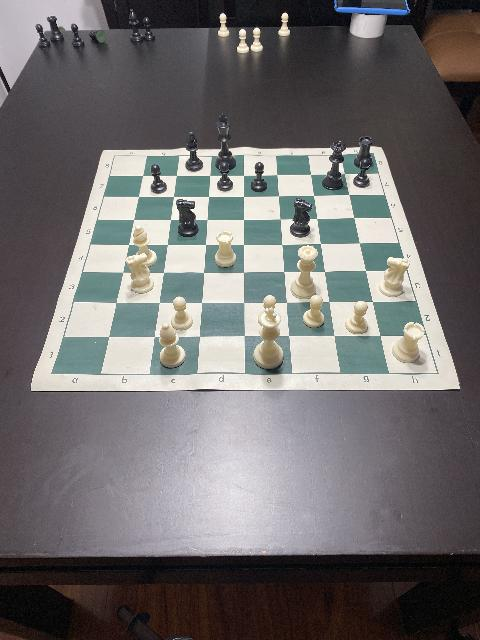black-bishop: (185, 131, 203, 171)
black-king: (214, 113, 236, 171)
black-knight: (175, 198, 199, 238), (291, 198, 313, 238)
black-pawn: (150, 164, 168, 193), (217, 162, 233, 192), (252, 162, 268, 192), (354, 160, 370, 188)
black-queen: (322, 142, 346, 190)
black-rook: (354, 136, 374, 168)
board: (31, 146, 461, 390)
white-bishop: (159, 323, 187, 367), (132, 225, 158, 267)
white-king: (254, 308, 284, 369)
white-knight: (378, 256, 410, 298), (126, 254, 154, 292)
white-pawn: (346, 300, 368, 334), (171, 296, 193, 330), (259, 296, 279, 328), (304, 296, 324, 328)
white-queen: (291, 244, 317, 300)
white-rook: (392, 321, 424, 364), (214, 232, 238, 268)
